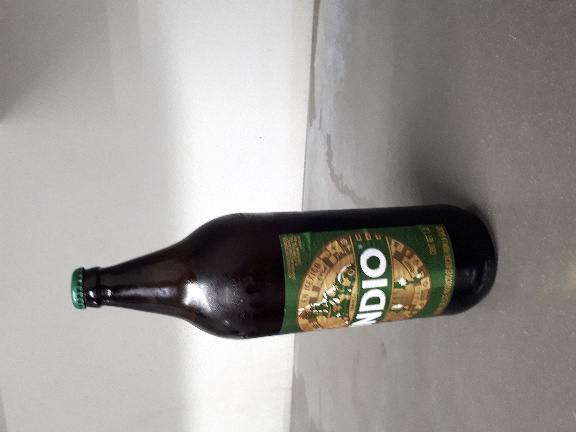IB: (48, 146, 361, 246)
